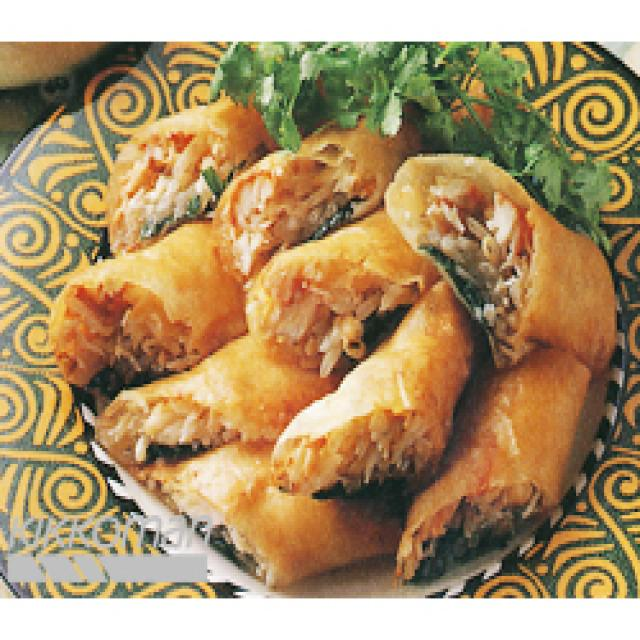鸡蛋料理: (46, 96, 614, 570)
